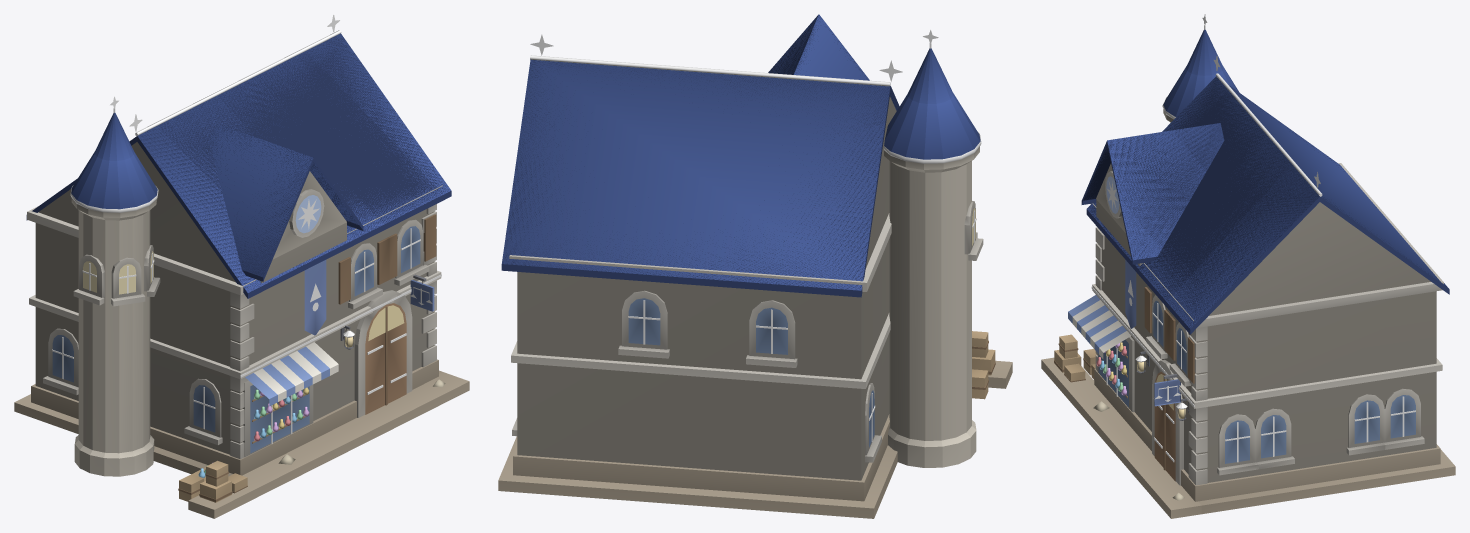
Rendered from guild_hq.glb.
The picture shows the model from 3 angles, left to right: view 1: azimuth 30°, elevation 25°; view 2: azimuth 150°, elevation 25°; view 3: azimuth 270°, elevation 25°; orthographic projection. The views are drawn at different scales.
Visible parts, largest first — view 1: Guild_stone, Guild_roof, Guild_props, Guild_gold, Guild_glow; view 2: Guild_stone, Guild_roof, Guild_props, Guild_gold; view 3: Guild_stone, Guild_roof, Guild_props, Guild_gold, Guild_glow.
Boxes of the visible parts, x1,y1,x2,y2 form: Guild_stone: [14, 142, 469, 518]; Guild_roof: [26, 33, 451, 298]; Guild_props: [52, 214, 445, 502]; Guild_gold: [52, 15, 441, 444]; Guild_glow: [83, 195, 404, 477]; Guild_stone: [498, 97, 1012, 518]; Guild_roof: [501, 14, 980, 297]; Guild_props: [628, 298, 995, 447]; Guild_gold: [530, 30, 981, 441]; Guild_stone: [1041, 109, 1455, 518]; Guild_roof: [1081, 29, 1449, 334]; Guild_props: [1054, 260, 1415, 500]; Guild_gold: [1091, 14, 1415, 462]; Guild_glow: [1096, 176, 1185, 418].
Size of the model in its own units: 10.88 by 10 by 10.81.
